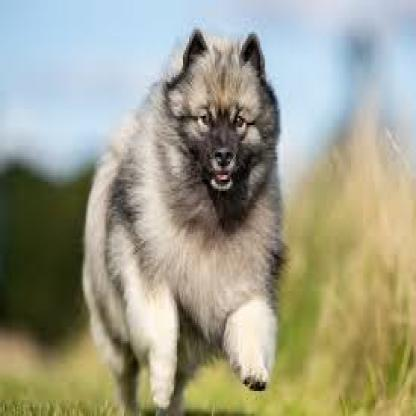Keeshond: (63, 3, 320, 411)
